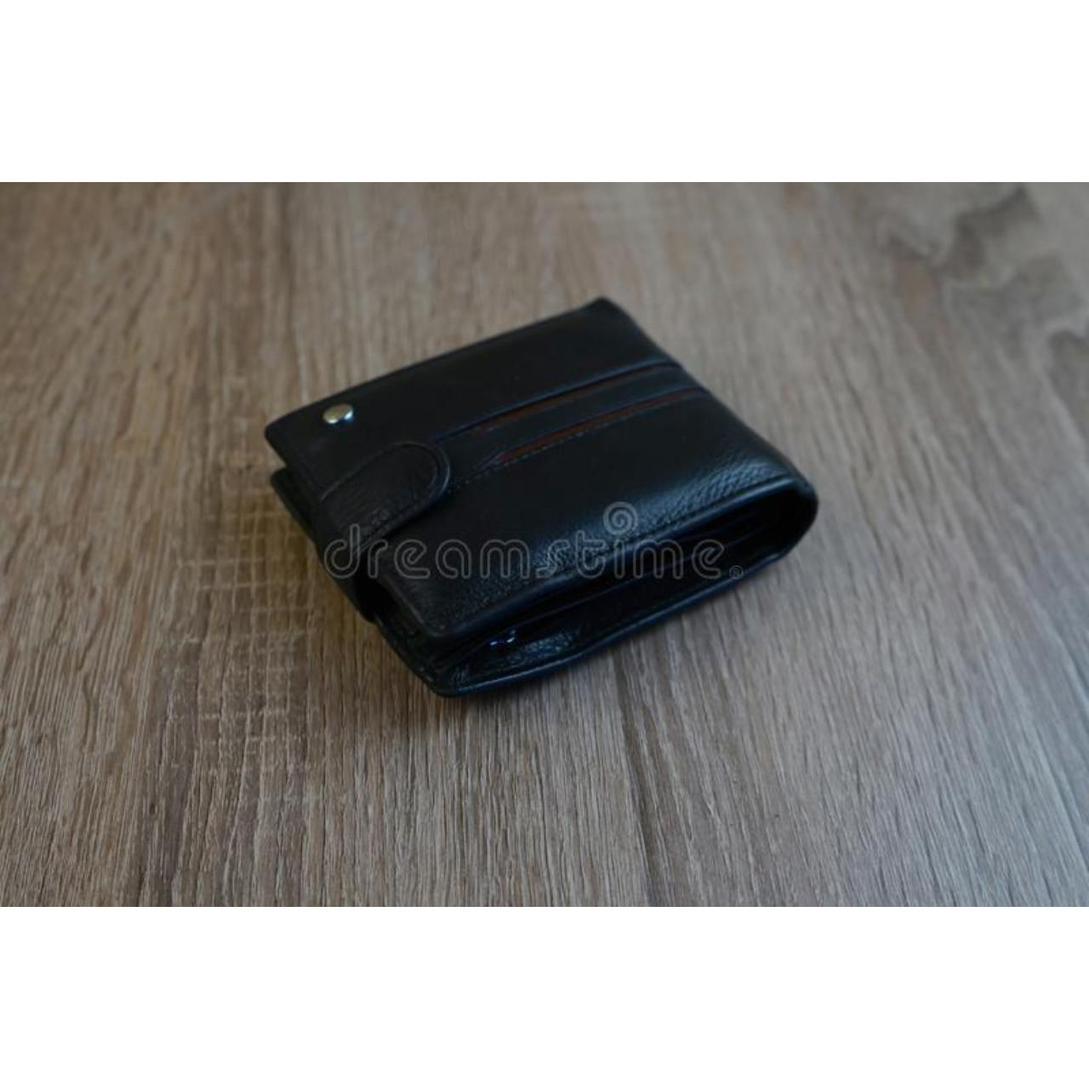wallet: (241, 272, 877, 720)
